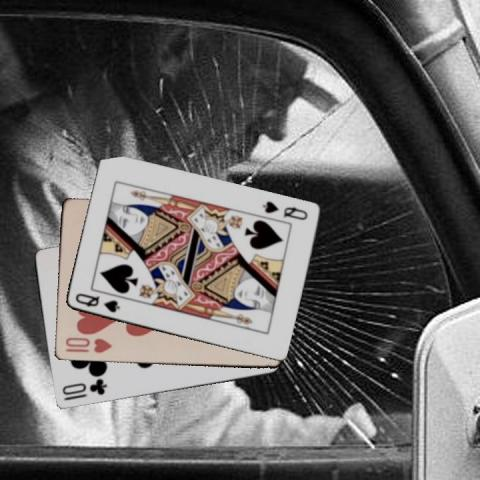10c: (59, 376, 108, 402)
10h: (62, 334, 113, 354)
Qs: (72, 290, 121, 314), (260, 198, 309, 222)
